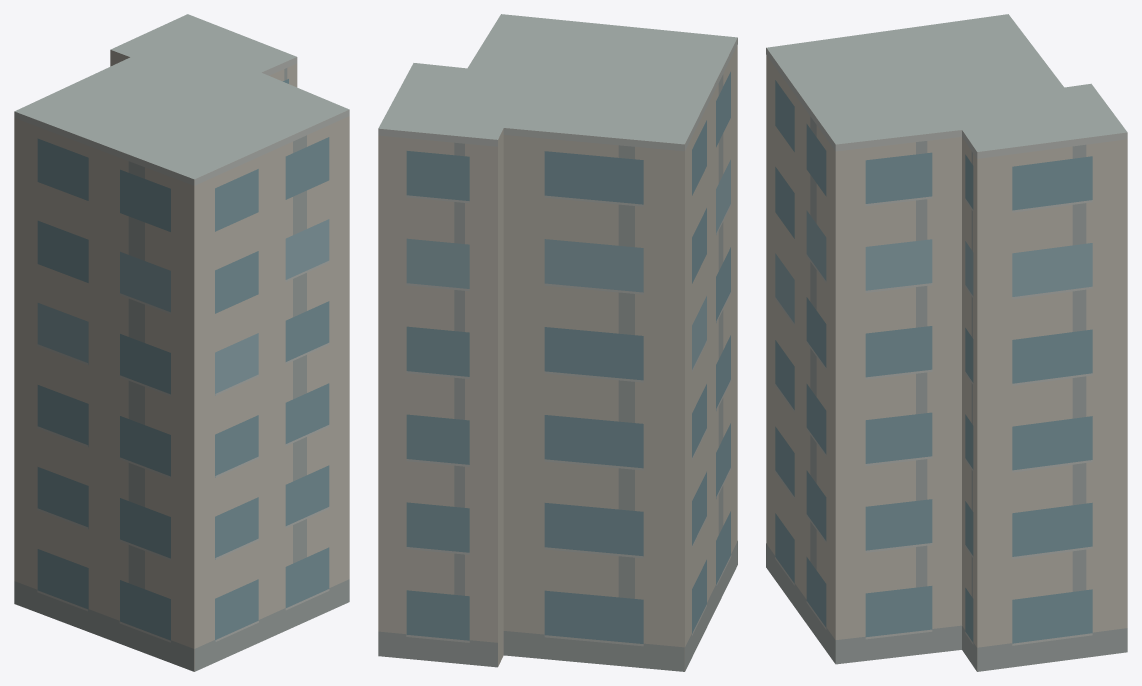
Rendered from survey-upis-32803928.glb.
3 renders of one model, left to right at view 1: azimuth 30°, elevation 25°; view 2: azimuth 150°, elevation 25°; view 3: azimuth 270°, elevation 25°, orthographic. The views are drawn at different scales.
Parts seen in each view (by area): view 1: survey-upis-32803928.tmp; view 2: survey-upis-32803928.tmp; view 3: survey-upis-32803928.tmp.
Part boxes in pixels (x1,y1,x2,y2): survey-upis-32803928.tmp: [14, 14, 349, 671]; survey-upis-32803928.tmp: [378, 14, 737, 671]; survey-upis-32803928.tmp: [766, 14, 1127, 671].
Bounding box in the file's own units: 10.55 × 18.5 × 11.67.
